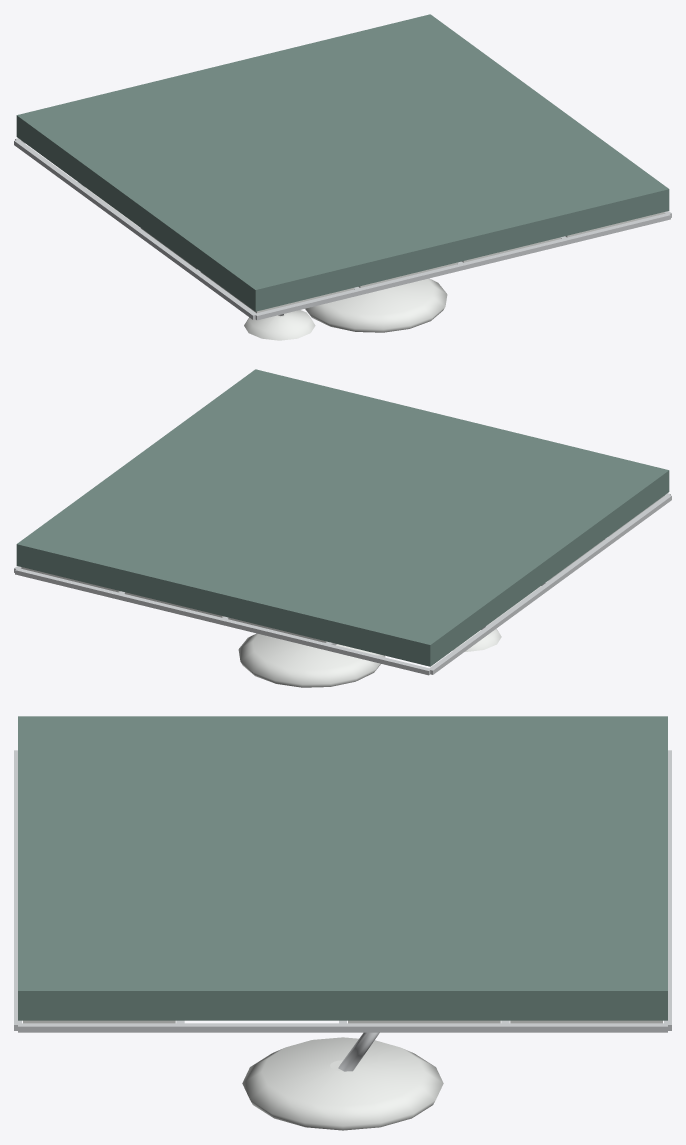
Rendered from ceil_hs_surg.glb.
The picture shows the model from 3 angles, top to bottom: view 1: azimuth 30°, elevation 25°; view 2: azimuth 150°, elevation 25°; view 3: azimuth 270°, elevation 25°; orthographic projection. The views are drawn at different scales.
Visible parts, largest first — view 1: ceil_hs_surg; view 2: ceil_hs_surg; view 3: ceil_hs_surg.
Boxes of the visible parts, x1,y1,x2,y2 form: ceil_hs_surg: (14, 14, 671, 340); ceil_hs_surg: (14, 369, 671, 687); ceil_hs_surg: (14, 716, 671, 1130).
Size of the model in its own units: 4.05 by 1.47 by 4.05.
